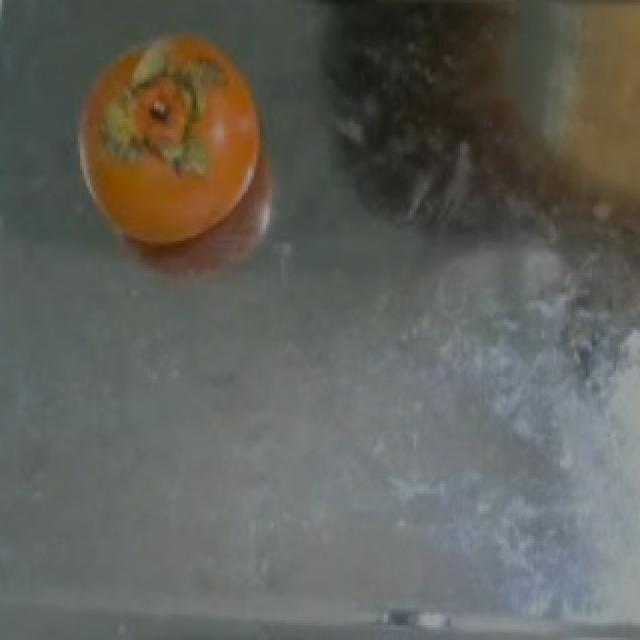Fruit: (56, 10, 286, 303)
